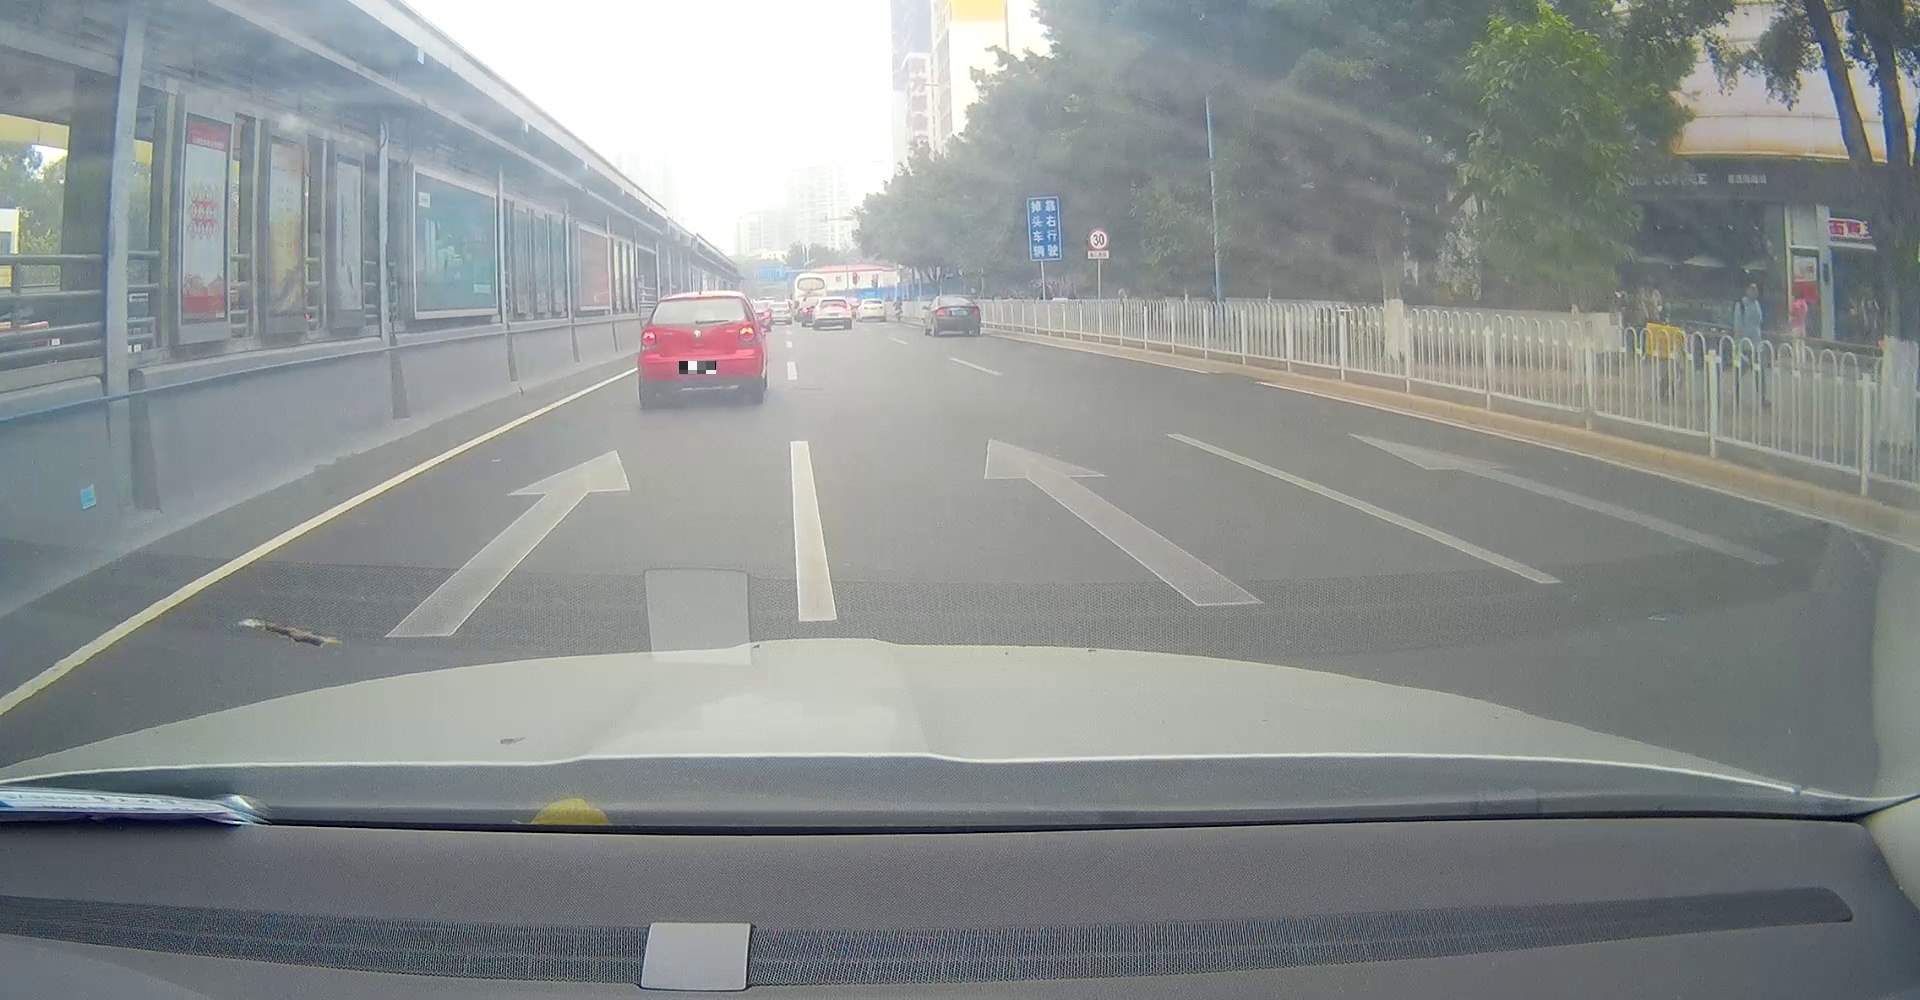L_light: (640, 327, 658, 352), (937, 308, 945, 316), (815, 308, 822, 313)
R_light: (738, 324, 756, 346), (973, 308, 980, 315), (846, 306, 851, 311)
T_light: (691, 294, 712, 299), (830, 299, 837, 302), (952, 296, 957, 298)
day-brake: (637, 291, 762, 409)
day-no: (935, 294, 982, 336), (813, 296, 852, 330)
plate_1: (679, 360, 716, 374)
